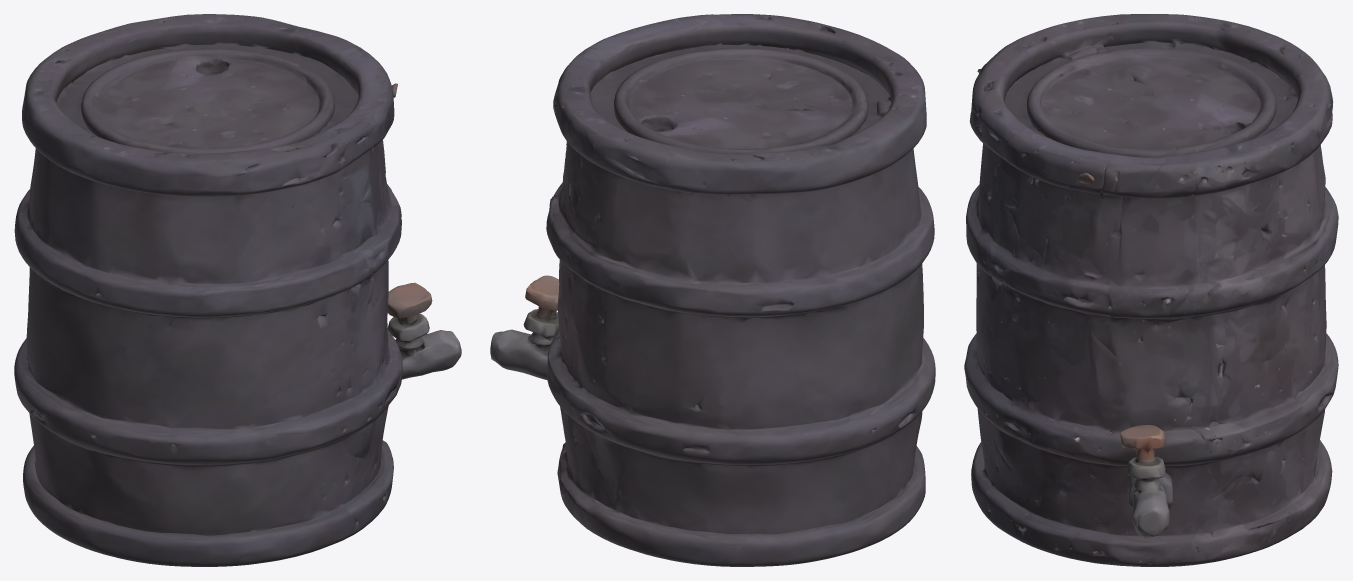
File: barrel.glb
3 renders of one model, left to right at view 1: azimuth 30°, elevation 25°; view 2: azimuth 150°, elevation 25°; view 3: azimuth 270°, elevation 25°, orthographic.
Visible parts, largest first — view 1: tripo_node_4c8ceb0f-b97d-45a4-ad20-4a6a75974f28; view 2: tripo_node_4c8ceb0f-b97d-45a4-ad20-4a6a75974f28; view 3: tripo_node_4c8ceb0f-b97d-45a4-ad20-4a6a75974f28.
Boxes of the visible parts, x1,y1,x2,y2 form: tripo_node_4c8ceb0f-b97d-45a4-ad20-4a6a75974f28: [14, 14, 461, 566]; tripo_node_4c8ceb0f-b97d-45a4-ad20-4a6a75974f28: [490, 14, 935, 566]; tripo_node_4c8ceb0f-b97d-45a4-ad20-4a6a75974f28: [964, 14, 1338, 566].
Bounding box in the file's own units: 0.9803 × 0.9099 × 0.7629.
1 material, 1 textured.
